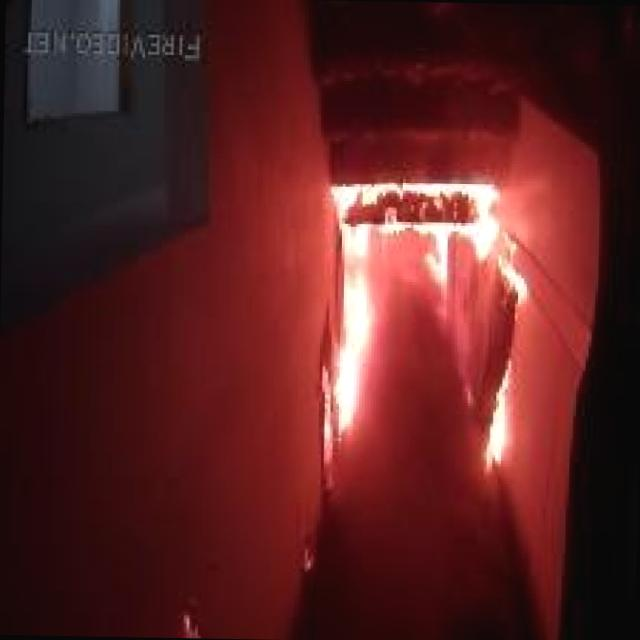fire: (278, 164, 524, 488)
